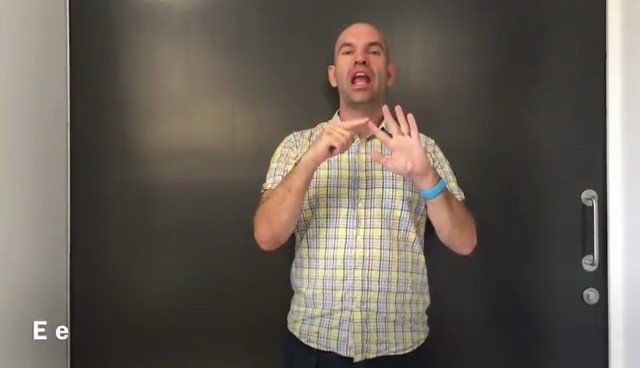E: (305, 99, 440, 188)
